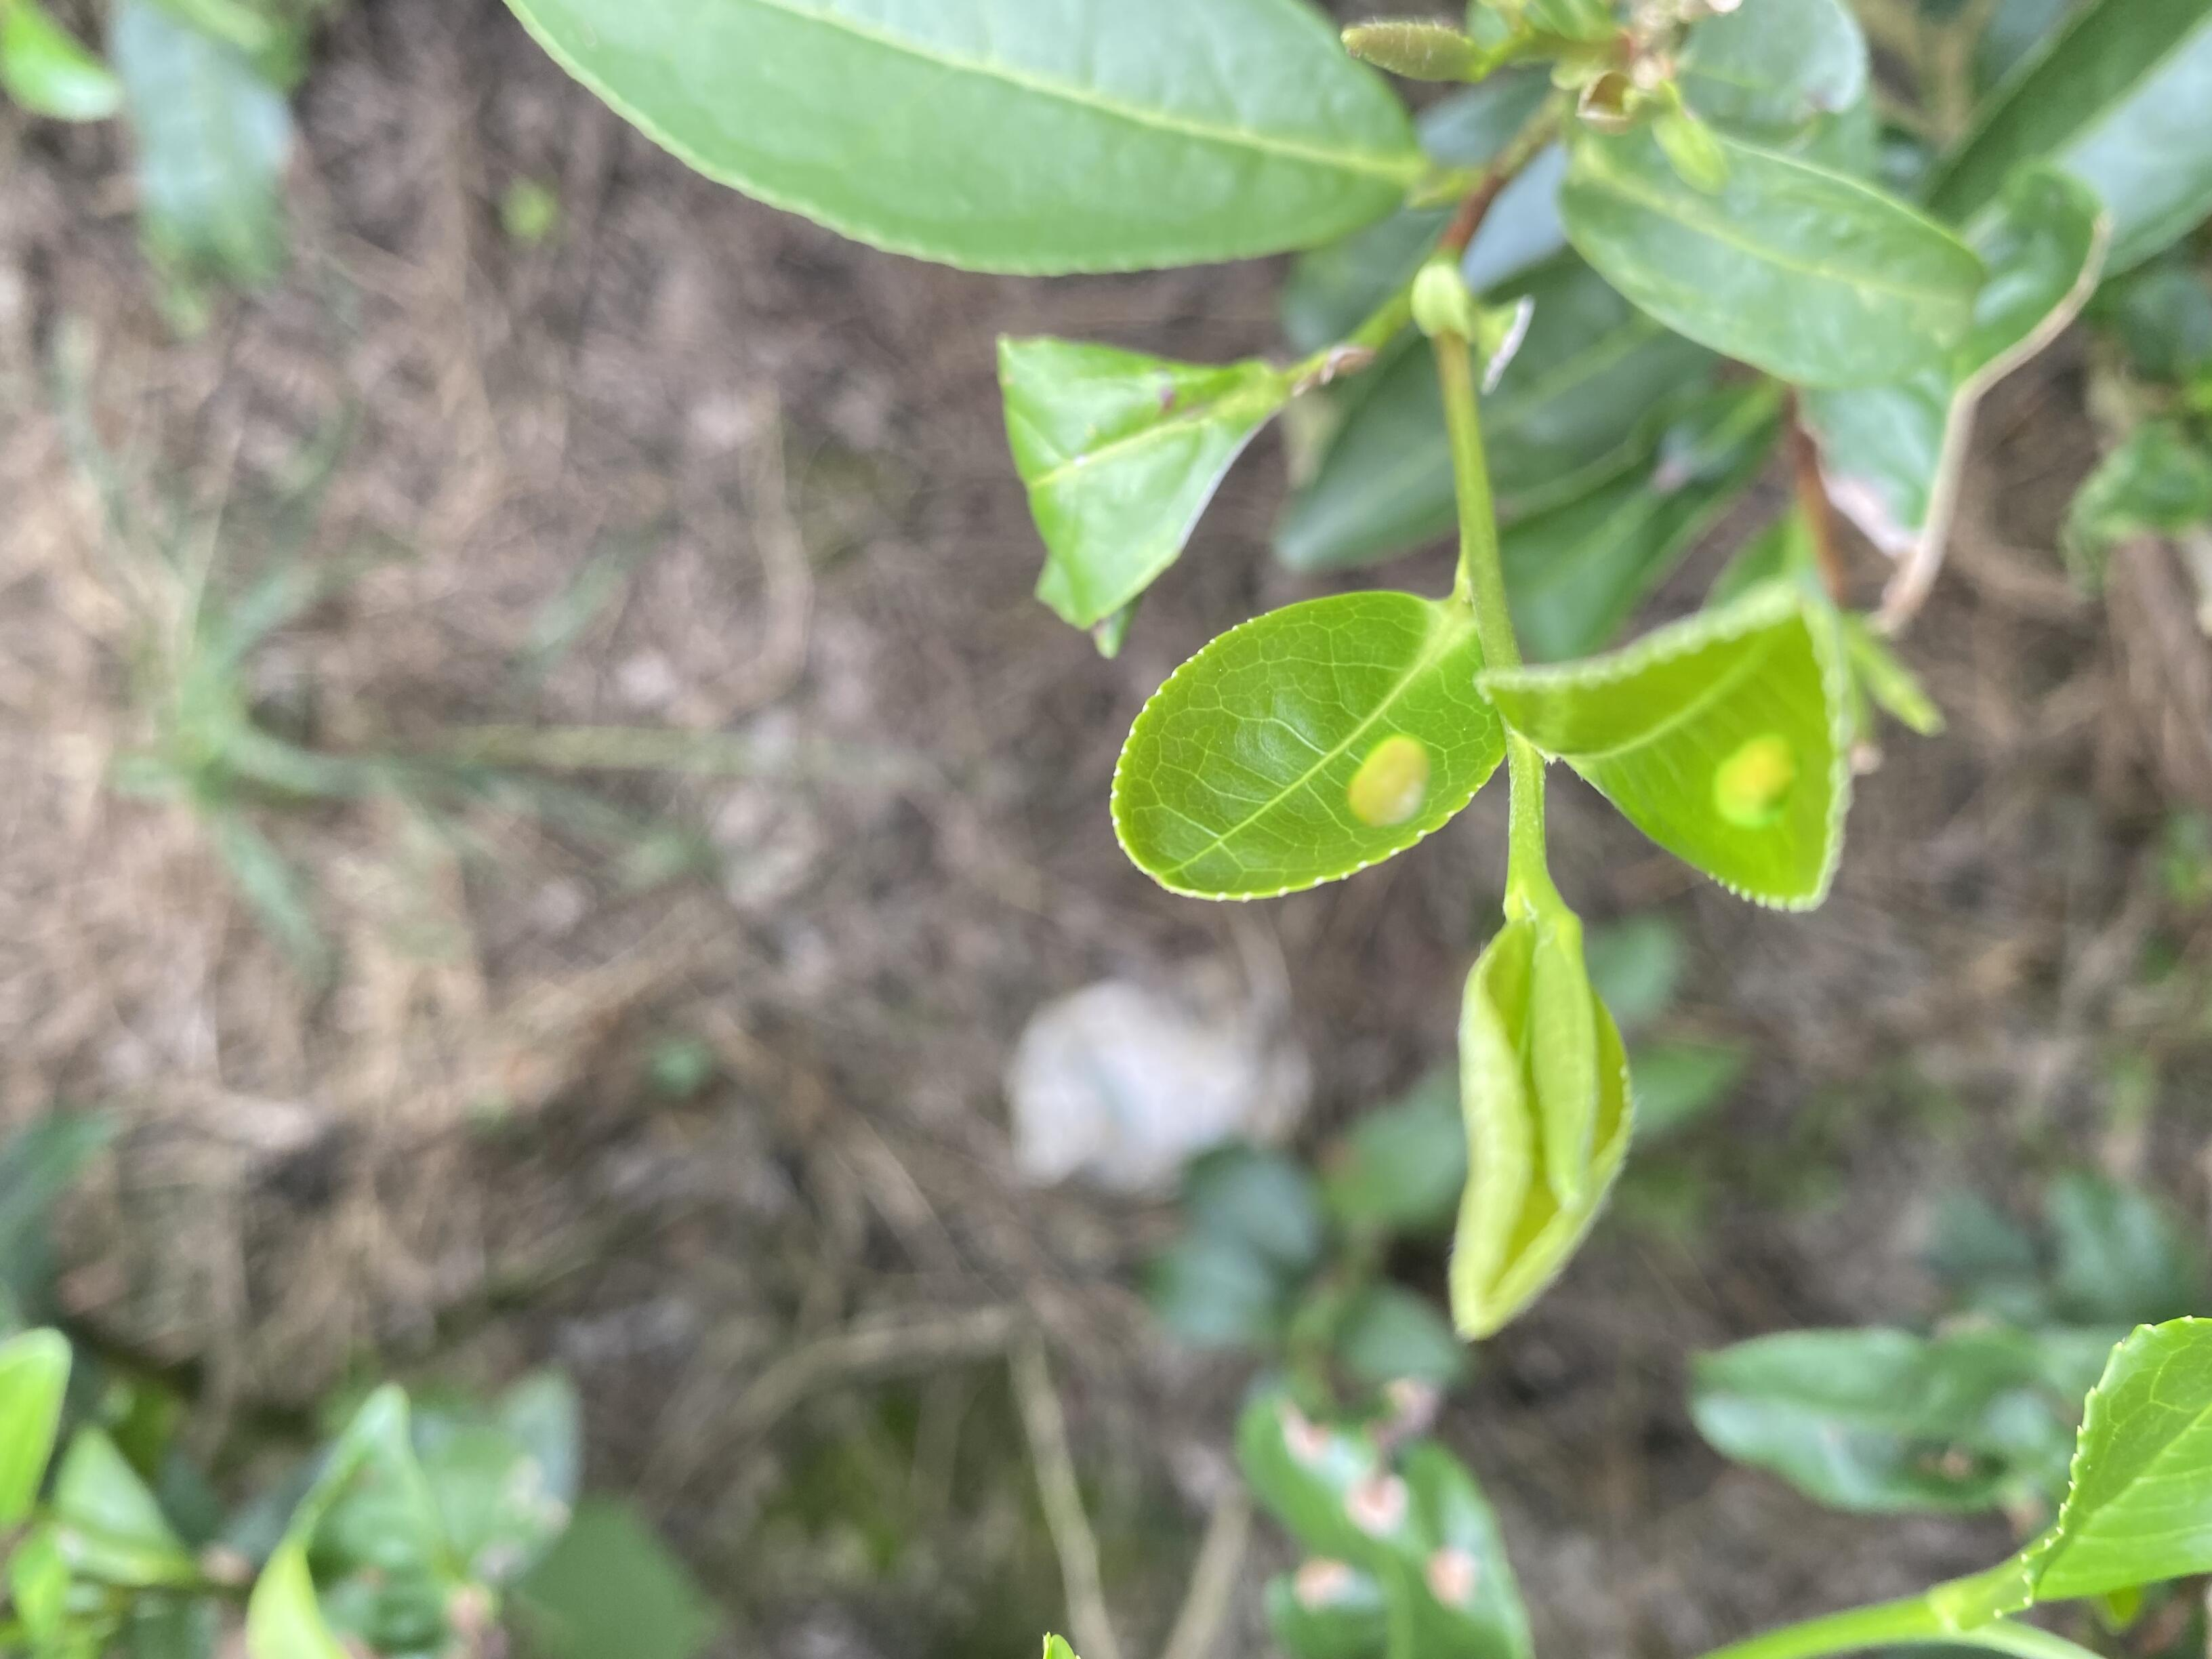chabing_low: (1108, 587, 1503, 901), (1477, 603, 1844, 915)
healthy: (503, 0, 1414, 275)
